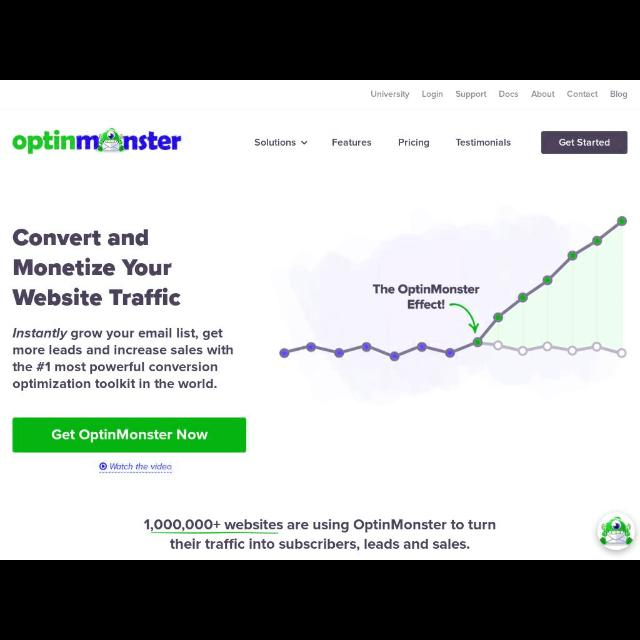button: (594, 510, 638, 554)
icon: (296, 136, 312, 148)
image: (272, 215, 636, 368), (8, 127, 182, 157)
multitab: (353, 82, 637, 104)
spinner: (252, 136, 310, 150)
text: (137, 509, 495, 553), (11, 225, 181, 312), (12, 328, 234, 392), (452, 135, 506, 151), (328, 136, 374, 146), (368, 90, 412, 100), (416, 88, 446, 100), (254, 139, 294, 147), (400, 138, 430, 148), (454, 91, 490, 99), (608, 89, 630, 101), (566, 91, 598, 97), (531, 90, 553, 96), (499, 92, 519, 96)
textbutton: (11, 418, 247, 452), (542, 132, 628, 154), (96, 461, 176, 474)
toolbar: (1, 110, 639, 162)
